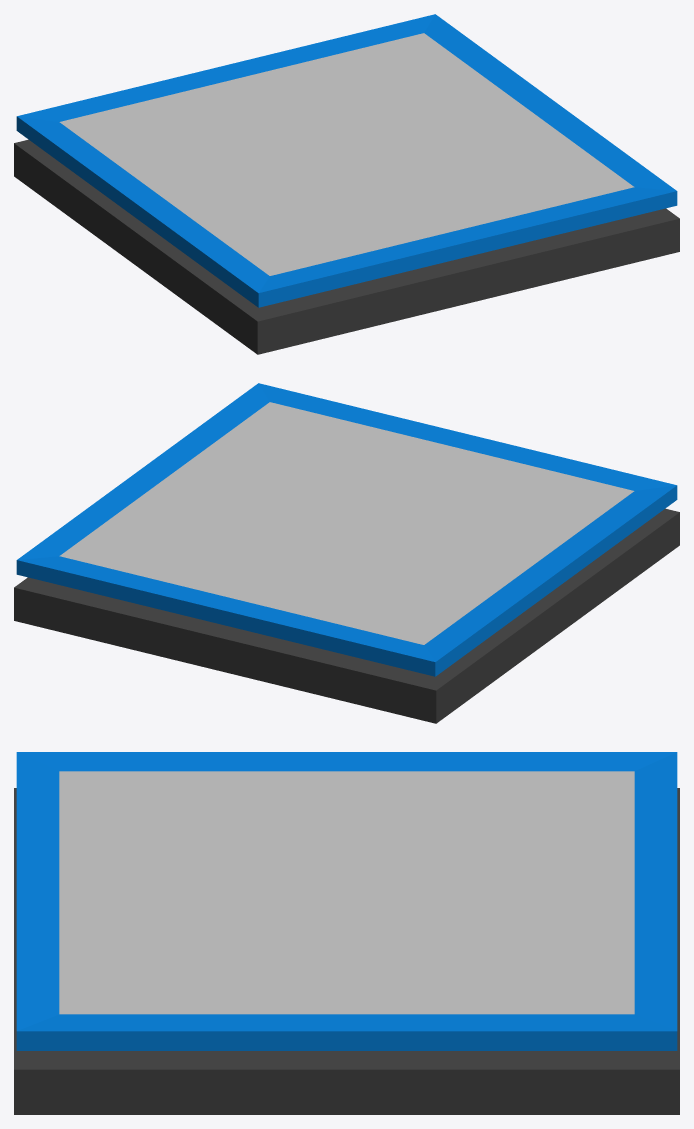
Rendered from preasure-pad-model.fbx.
3 views of the same model, one above another, from view 1: azimuth 30°, elevation 25°; view 2: azimuth 150°, elevation 25°; view 3: azimuth 270°, elevation 25° (orthographic). The views are drawn at different scales.
Parts seen in each view (by area): view 1: Cube.002; view 2: Cube.002; view 3: Cube.002.
Part boxes in pixels (bbox=[...]): Cube.002: bbox=[14, 14, 679, 354]; Cube.002: bbox=[14, 383, 679, 723]; Cube.002: bbox=[14, 752, 679, 1114].
Bounding box in the file's own units: 200 × 27.36 × 200.
